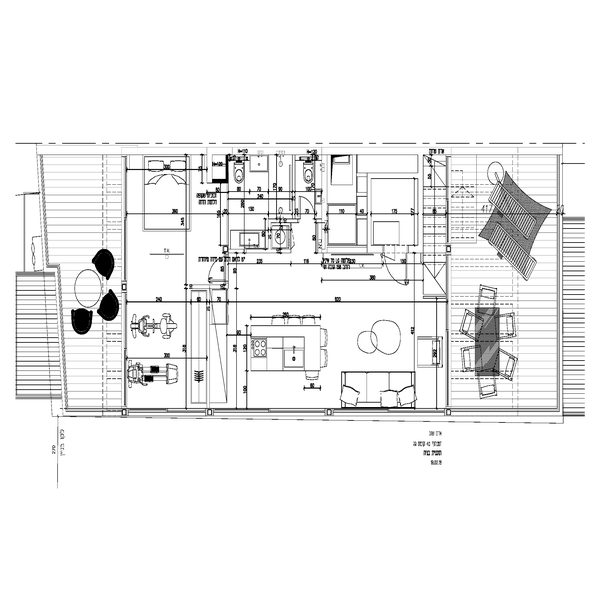door: (383, 254, 414, 290), (210, 256, 229, 285), (298, 194, 317, 223)
wall: (34, 146, 558, 154)
